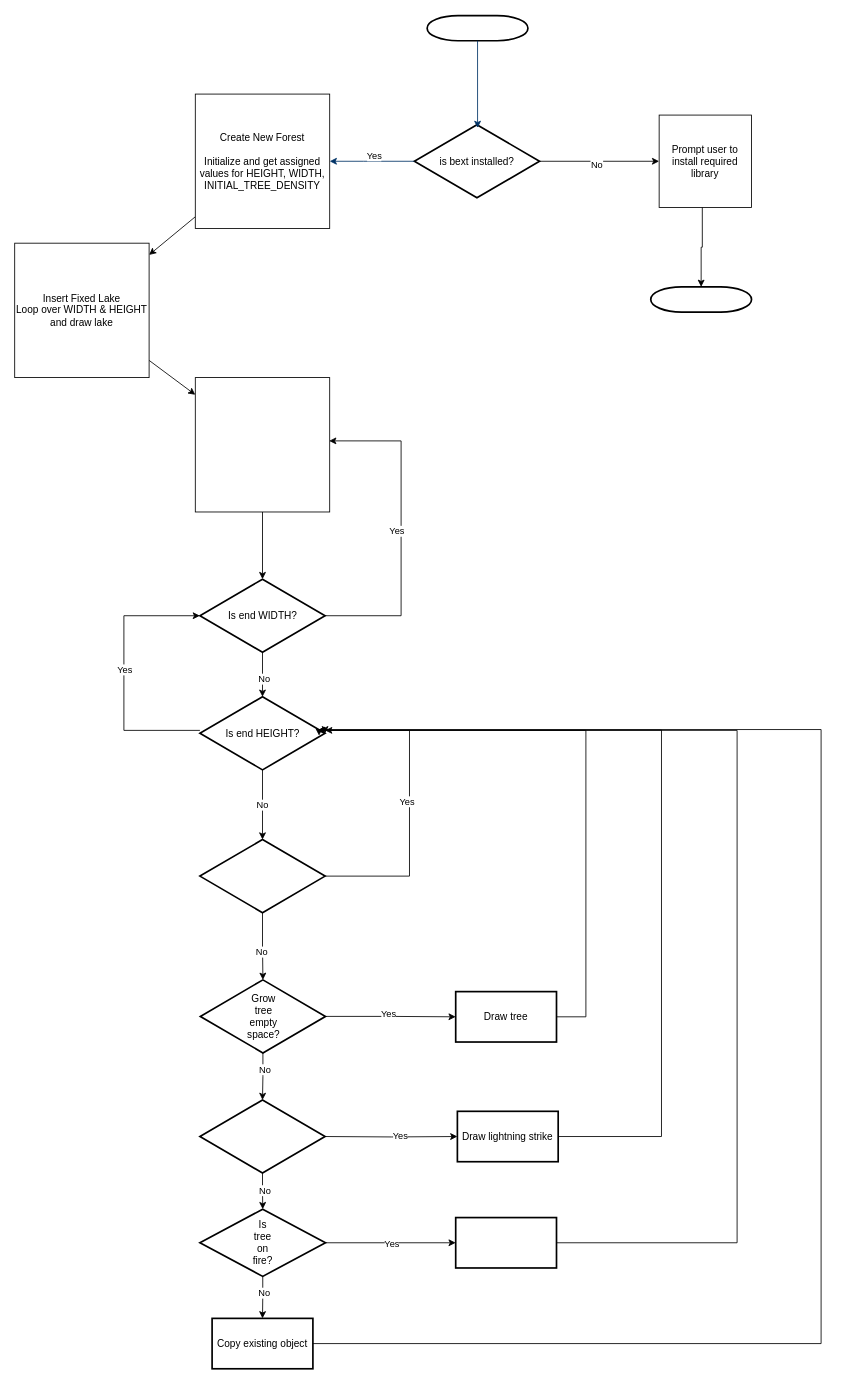
Some shapes in this 843 by 1383 pixel diagram are drawn without their labels. The shapes that lost their labels are listed below. From the top down, each one's box as (x1, y1, x2, y2) in pixels, then its label:
(426, 14, 528, 41): start
(649, 286, 752, 312): end
(194, 377, 330, 512): Display Forest data structure
(199, 838, 326, 913): is (x,y) already updated?
(199, 1099, 326, 1173): Lightning strikes tree?
(454, 1216, 557, 1268): Burn tree and neighboring tree
